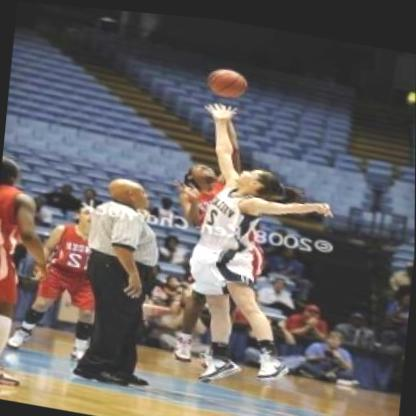basketball: (204, 58, 250, 105)
